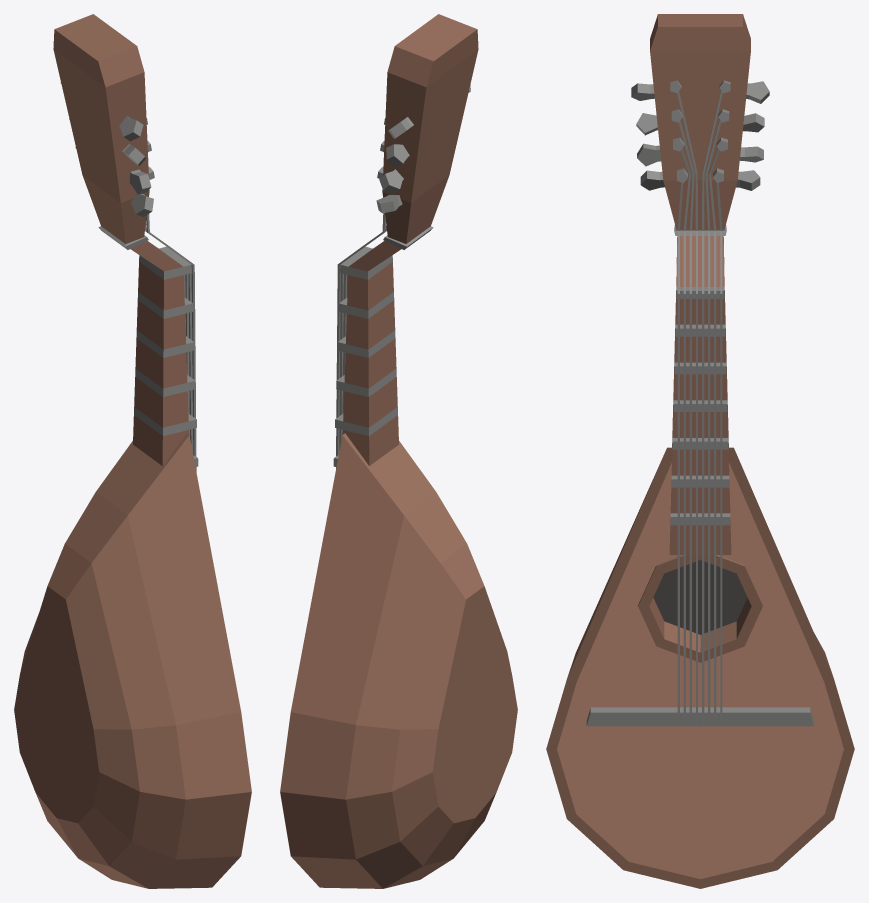
Rendered from Mandolin.glb.
3 renders of one model, left to right at view 1: azimuth 30°, elevation 25°; view 2: azimuth 150°, elevation 25°; view 3: azimuth 270°, elevation 25°, orthographic. The views are drawn at different scales.
Visible parts, largest first — view 1: Mandolin; view 2: Mandolin; view 3: Mandolin.
Boxes of the visible parts, left/top/right/bottom form: Mandolin: left=14, top=14, right=251, bottom=888; Mandolin: left=280, top=14, right=517, bottom=888; Mandolin: left=546, top=14, right=854, bottom=888.
Size of the model in its own units: 19.23 by 122 by 40.7.
